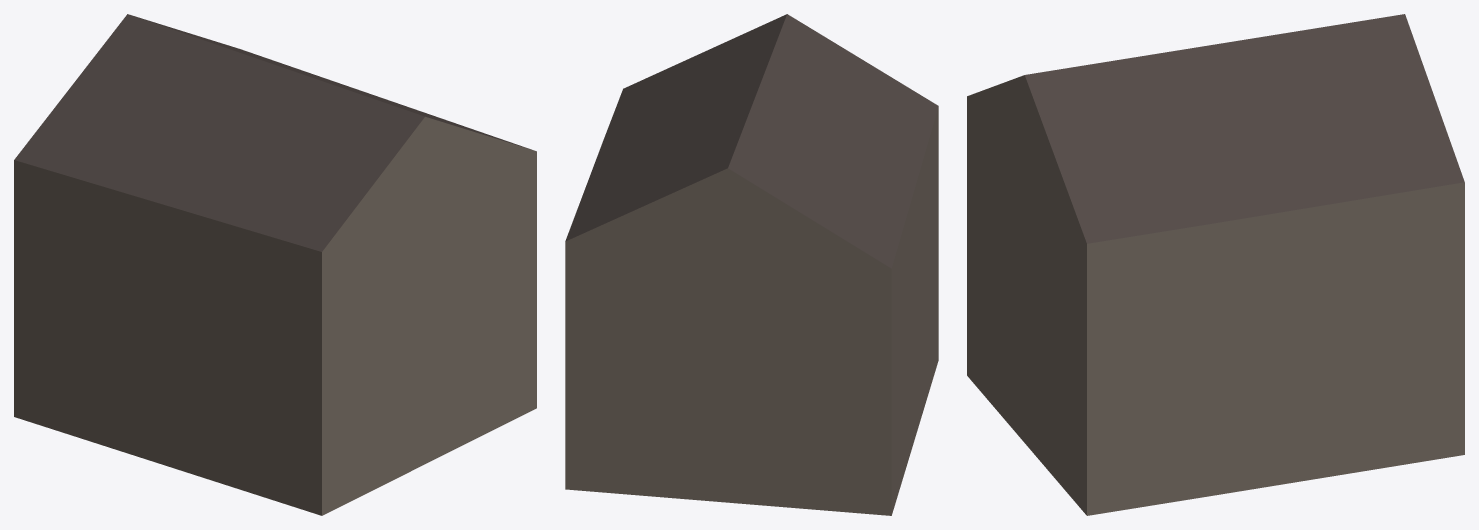
3 views of the same model, side by side, from view 1: azimuth 30°, elevation 25°; view 2: azimuth 150°, elevation 25°; view 3: azimuth 270°, elevation 25° (orthographic). The views are drawn at different scales.
Visible parts, largest first — view 1: HP-w1198645085; view 2: HP-w1198645085; view 3: HP-w1198645085.
Boxes of the visible parts, <box> form: HP-w1198645085: <box>14,14,536,515</box>; HP-w1198645085: <box>565,14,938,515</box>; HP-w1198645085: <box>967,14,1464,515</box>.
Size of the model in its own units: 9.8 by 8.12 by 9.95.
